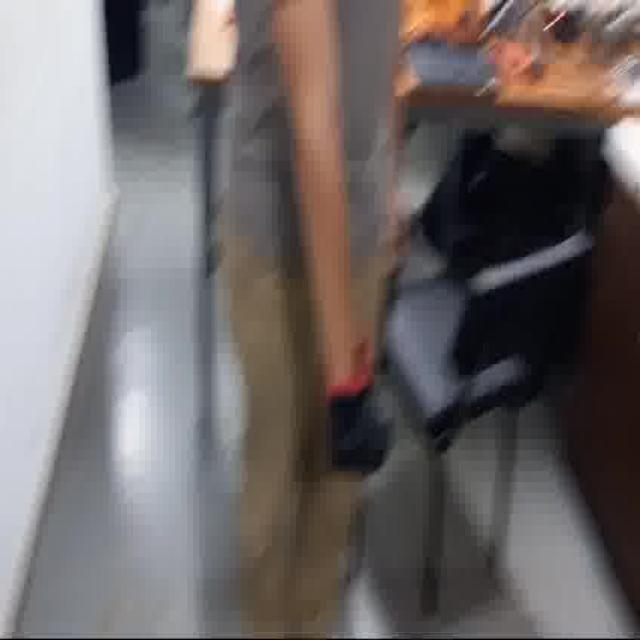Gloves: (328, 352, 391, 477)
